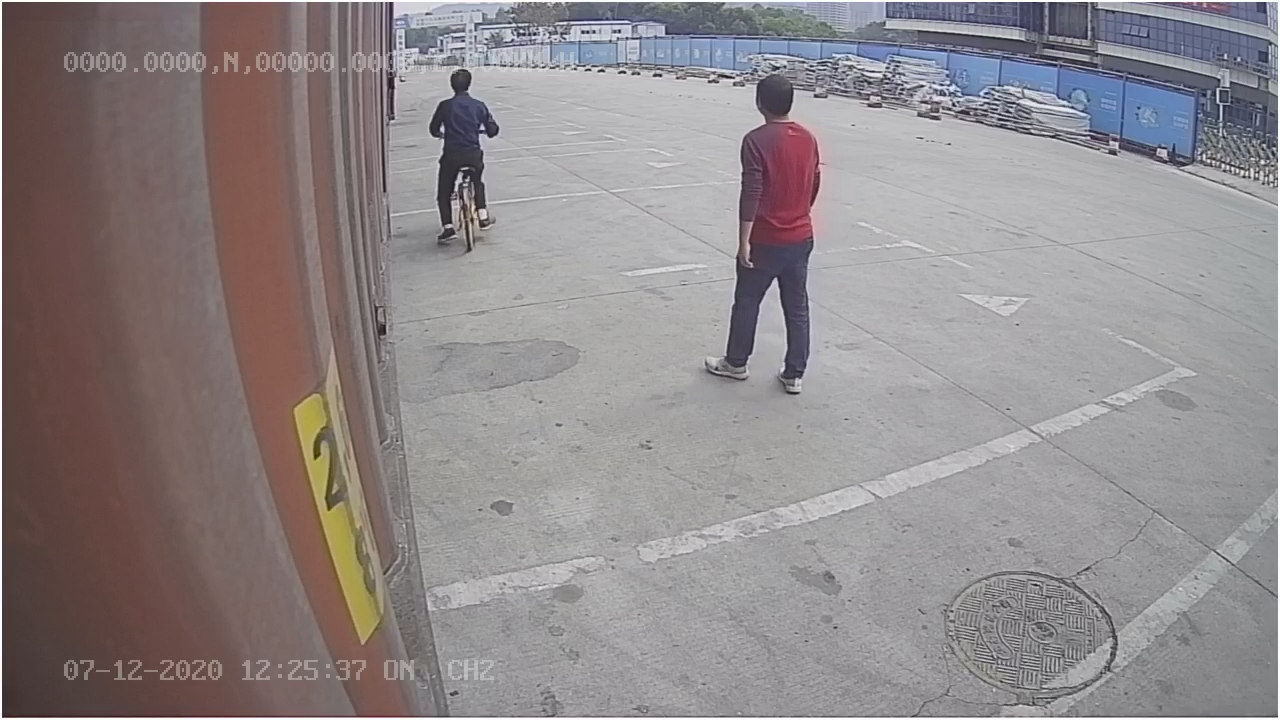person: (698, 71, 829, 397)
